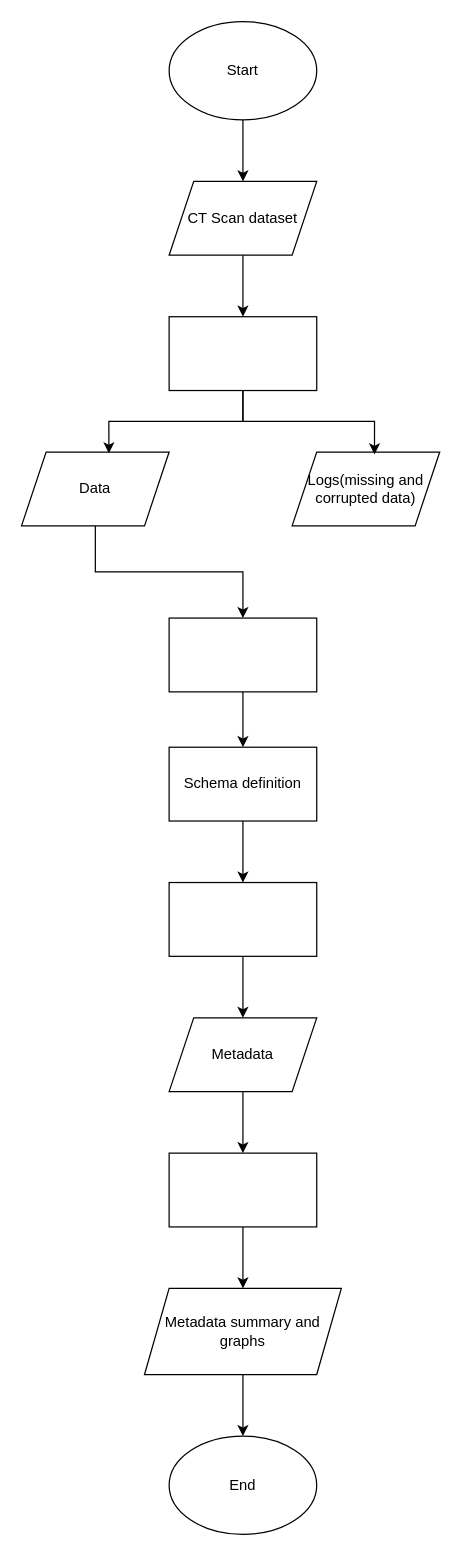
This 461x1556 diagram has some shape labels left out. Each missing label, with the centre of its shape:
Download Script: [242,353]
ETL script to store metadata: [242,918]
Generate summary statistics and graphs: [242,1189]
Metadata extraction: [242,654]
